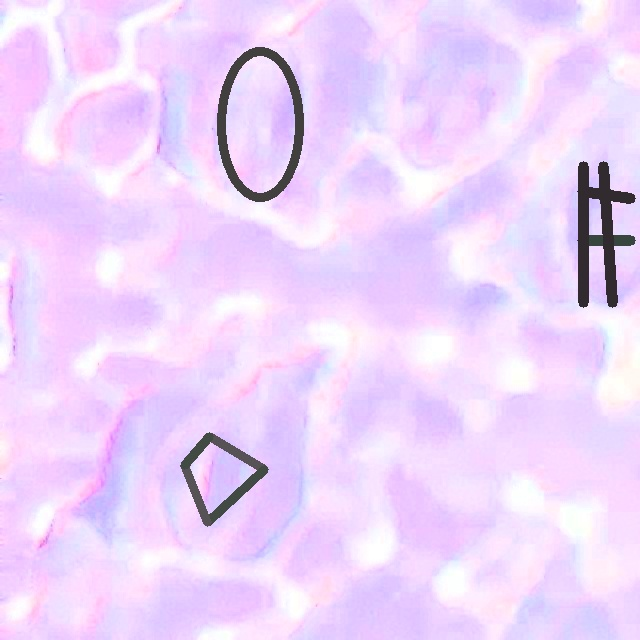close: (216, 46, 304, 202)
open: (578, 161, 635, 307), (181, 432, 268, 526)
